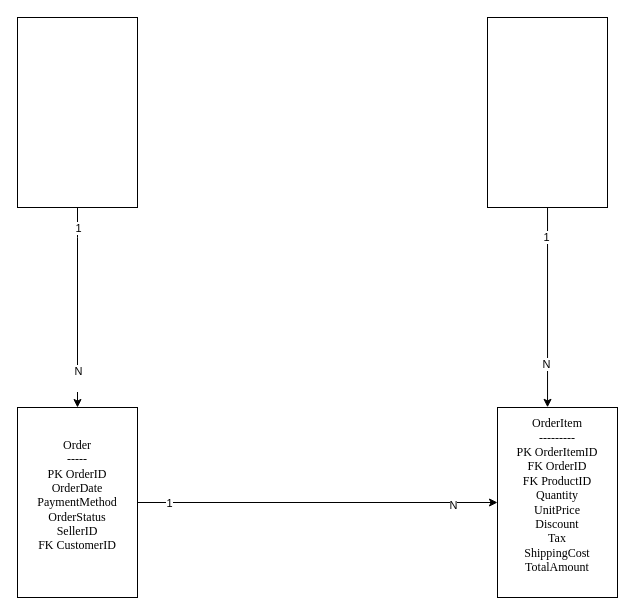
This 635x615 diagram has some shape labels left out. Each missing label, with the centre of its shape:
"Customer --------- PK CustomerID CustomerName City State Country" belongs at [77,112].
"Product -------- PK ProductID ProductName Category Brand" belongs at [547,112].
